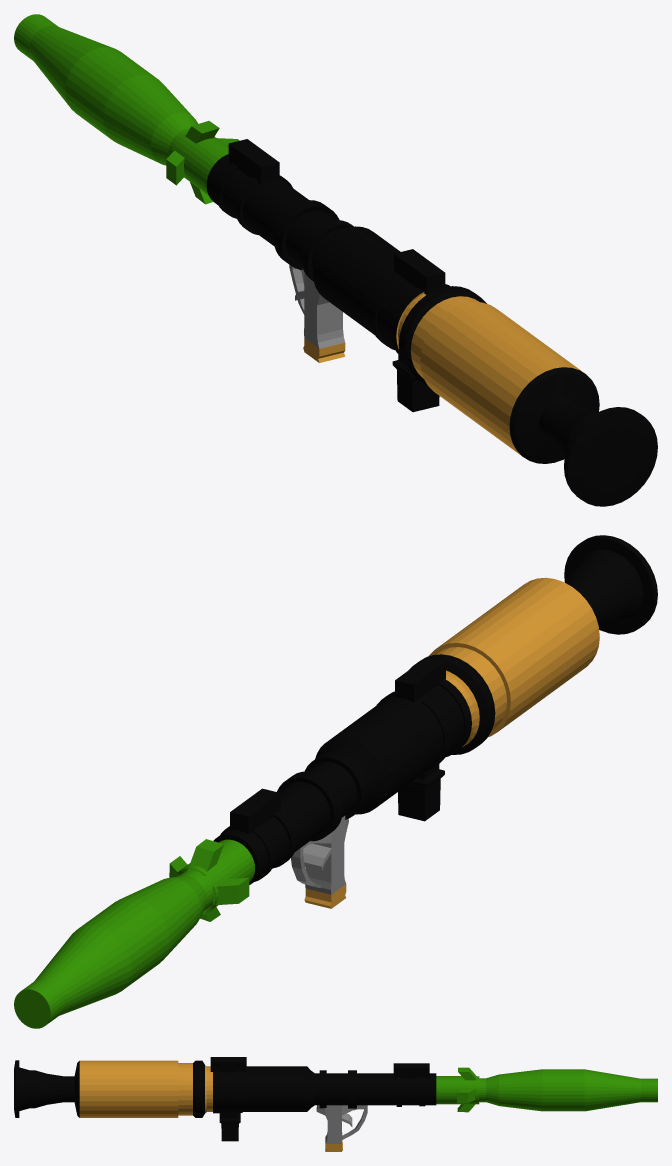
File: rocketLauncher.fbx
3 views of the same model, one above another, from view 1: azimuth 30°, elevation 25°; view 2: azimuth 150°, elevation 25°; view 3: azimuth 270°, elevation 25° (orthographic). The views are drawn at different scales.
Parts seen in each view (by area): view 1: Launcher, Rocket; view 2: Launcher, Rocket; view 3: Launcher, Rocket.
Boxes of the visible parts, box(x1,y1,x2,y2) form: Launcher: box(206, 139, 657, 506); Rocket: box(14, 14, 239, 204); Launcher: box(213, 535, 657, 908); Rocket: box(14, 839, 254, 1028); Launcher: box(14, 1057, 436, 1151); Rocket: box(436, 1067, 657, 1112).
Size of the model in its own units: 253 by 429 by 2820.
